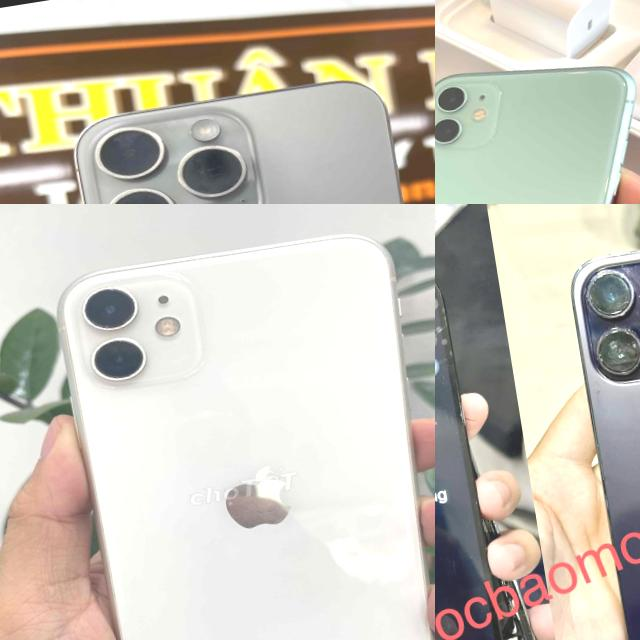scratch: (581, 257, 640, 377)
